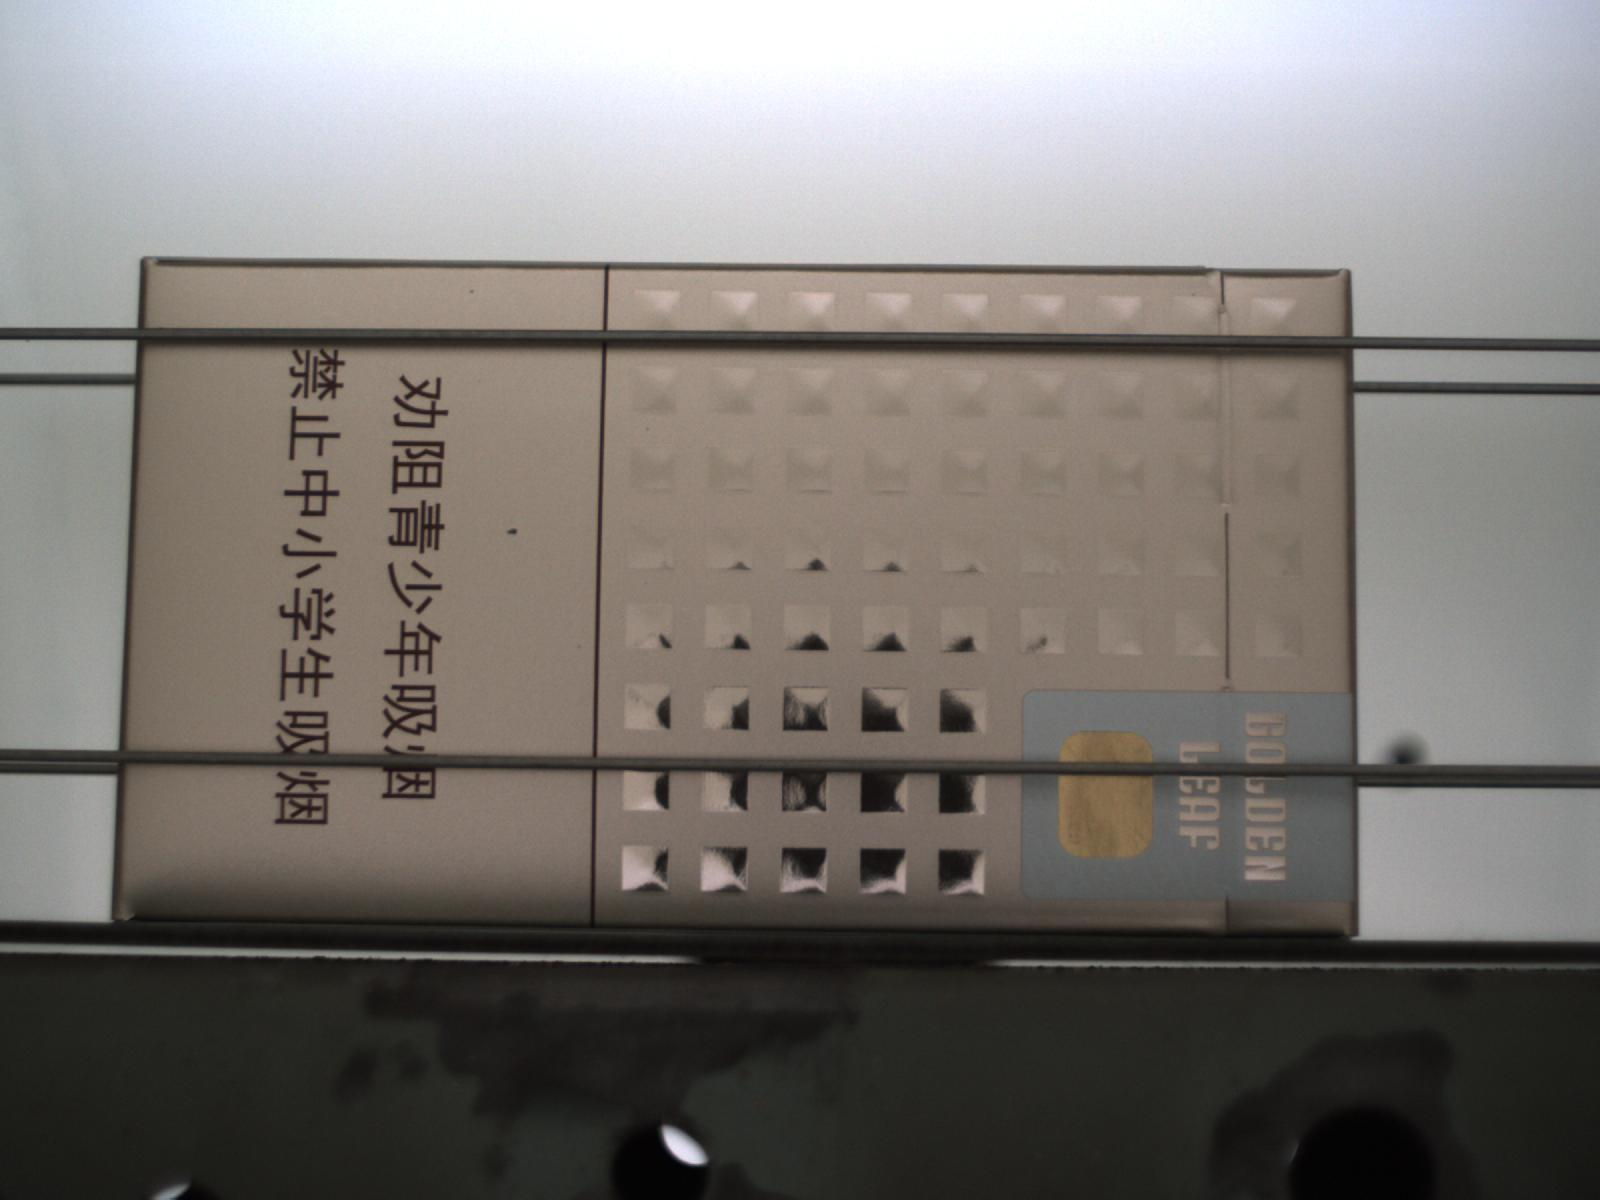dirtyOil: (505, 527, 519, 536)
dirtySpot: (467, 287, 476, 296), (574, 642, 583, 650), (641, 579, 650, 587), (644, 425, 653, 432), (475, 377, 483, 384)
